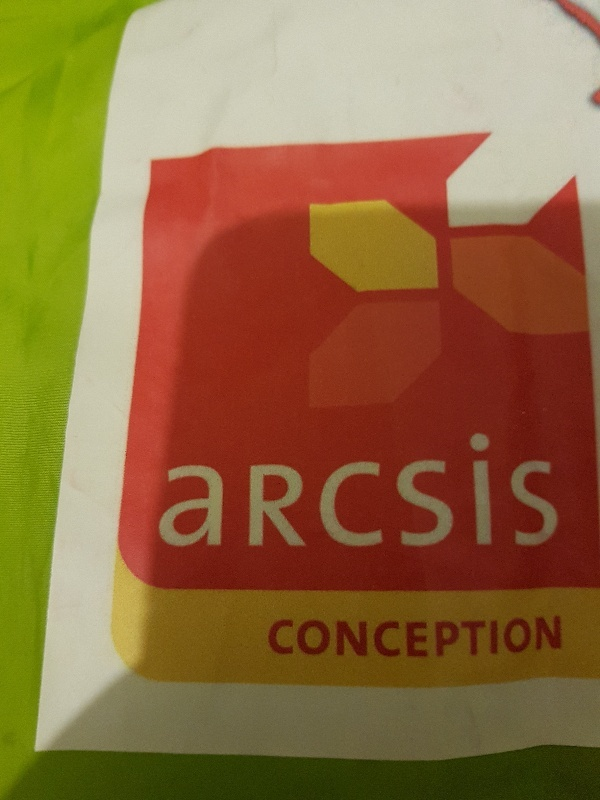text: (177, 430, 192, 548), (193, 430, 208, 548), (209, 430, 224, 548), (225, 430, 240, 548), (241, 430, 256, 548), (257, 430, 272, 548), (273, 430, 288, 548), (289, 430, 304, 548), (305, 430, 320, 548), (321, 430, 336, 548), (337, 430, 352, 548), (353, 430, 368, 548), (369, 430, 384, 548), (385, 430, 400, 548), (401, 430, 416, 548), (417, 430, 432, 548), (433, 430, 448, 548), (449, 430, 464, 548), (465, 430, 480, 548), (481, 430, 496, 548), (497, 430, 512, 548), (513, 430, 528, 548), (529, 430, 544, 548), (545, 430, 560, 548), (164, 430, 176, 548), (273, 613, 288, 660), (289, 613, 304, 660), (305, 613, 320, 660), (321, 613, 336, 660), (337, 613, 352, 660), (353, 613, 368, 660), (369, 613, 384, 660), (385, 613, 400, 660), (401, 613, 416, 660), (417, 613, 432, 660), (433, 613, 448, 660), (449, 613, 464, 660), (465, 613, 480, 660), (481, 613, 496, 660), (497, 613, 512, 660), (513, 613, 528, 660), (529, 613, 544, 660), (545, 613, 560, 660), (561, 430, 563, 548), (561, 613, 566, 660), (268, 613, 272, 660)
